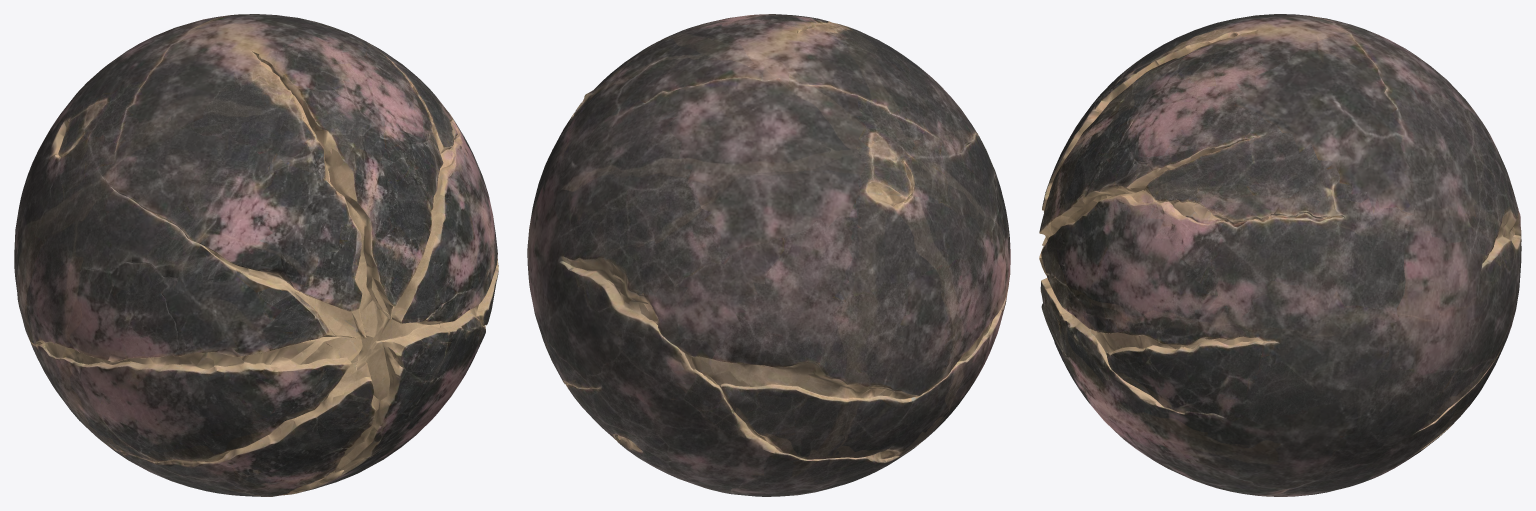
3 renders of one model, left to right at view 1: azimuth 30°, elevation 25°; view 2: azimuth 150°, elevation 25°; view 3: azimuth 270°, elevation 25°, orthographic.
Parts seen in each view (by area): view 1: Mesh_0; view 2: Mesh_0; view 3: Mesh_0.
Part boxes in pixels (left/top/right/bottom): Mesh_0: left=14, top=14, right=498, bottom=496; Mesh_0: left=527, top=14, right=1010, bottom=496; Mesh_0: left=1039, top=14, right=1521, bottom=496.
Size of the model in its own units: 1.9 by 1.9 by 1.9.
1 material, 1 textured.
